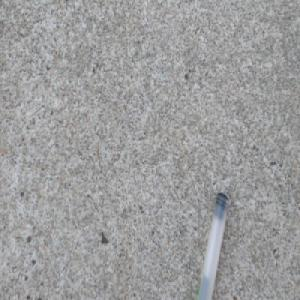Pen: (194, 190, 231, 300)
